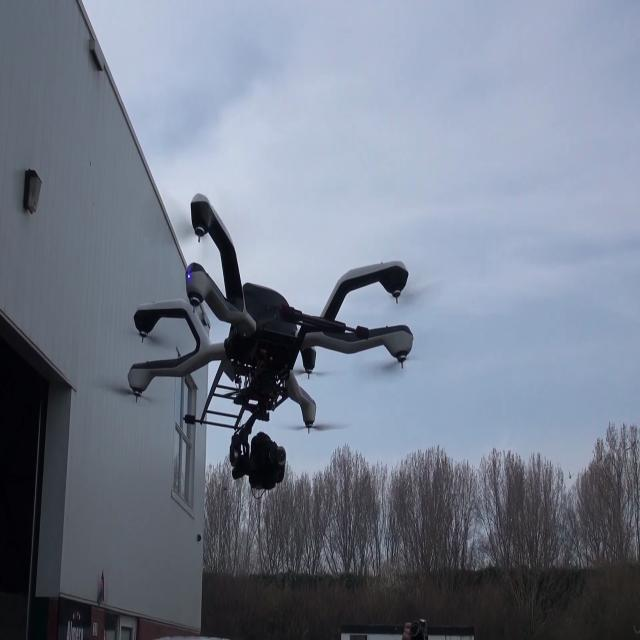drone: (88, 171, 428, 497)
